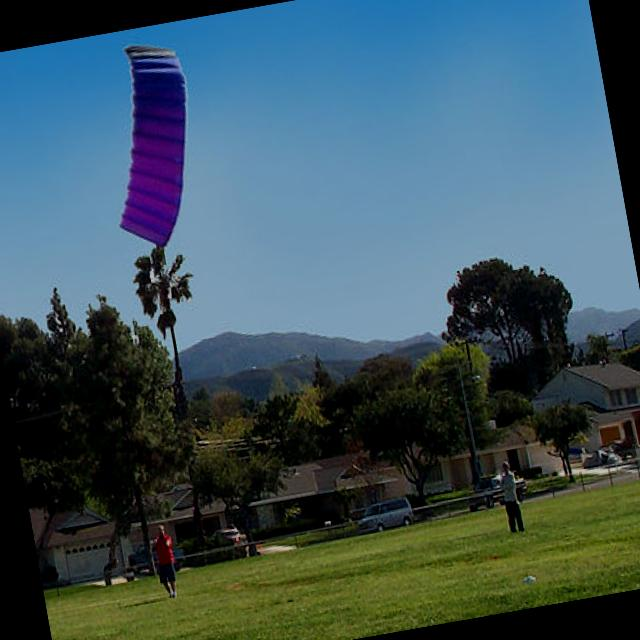Vehicle: (464, 469, 528, 512), (355, 494, 415, 534), (126, 536, 186, 566), (602, 438, 638, 462), (214, 526, 248, 548), (582, 455, 605, 471)
